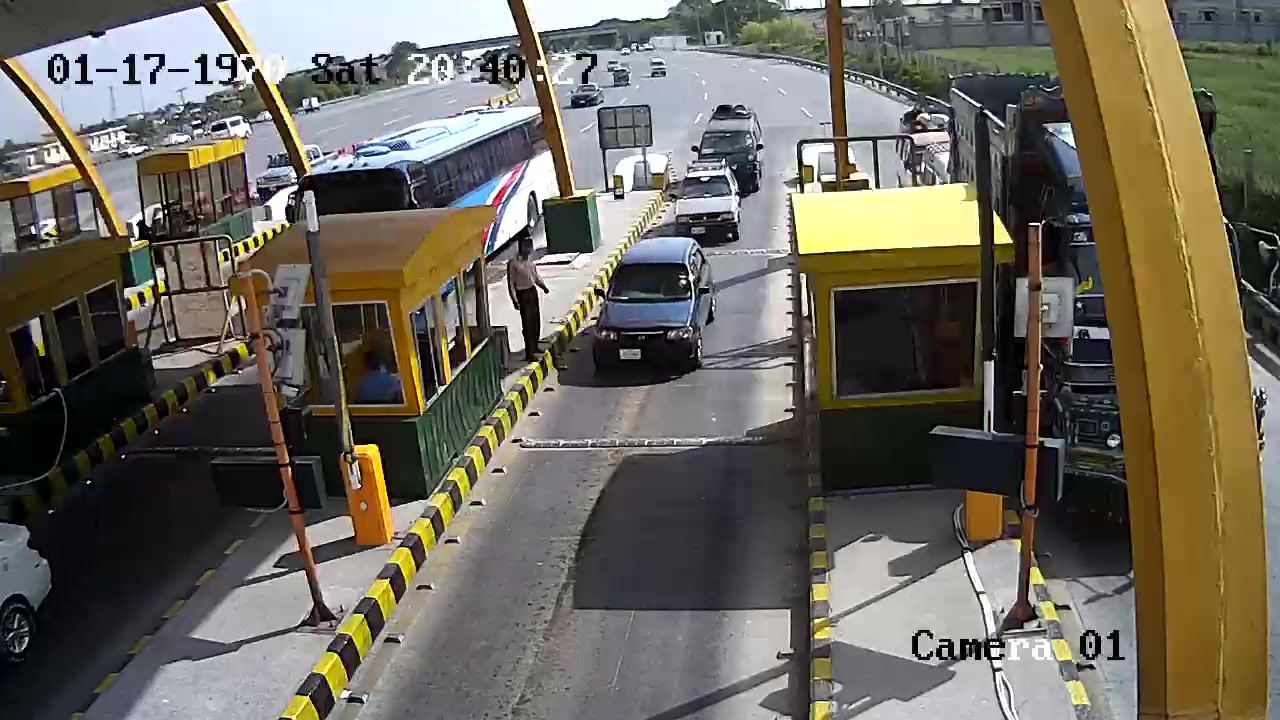F1: (581, 235, 727, 401)
